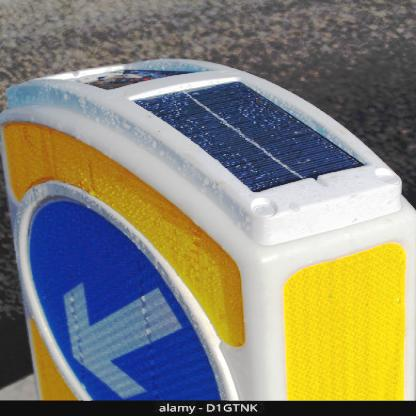Keep left: (10, 187, 248, 401)
